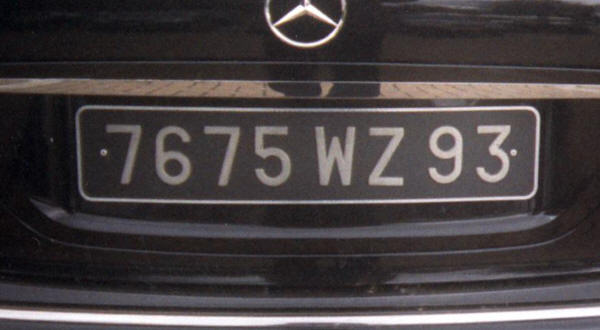license_plate: (76, 105, 541, 203)
